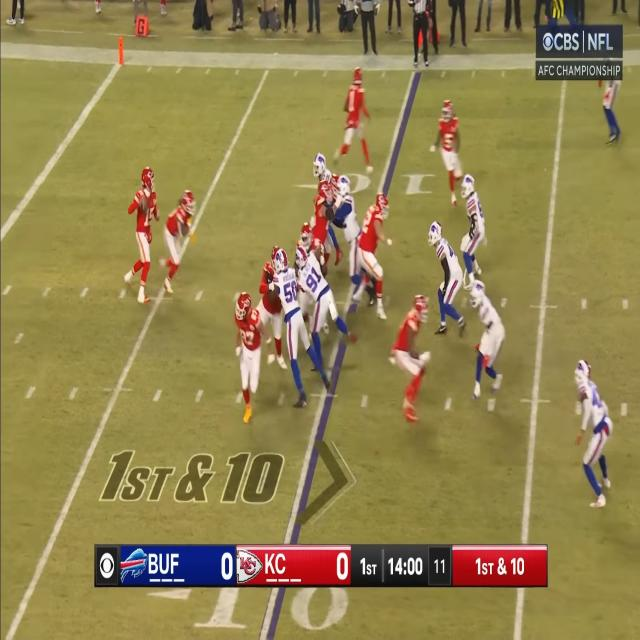Ball: (138, 194, 148, 214)
